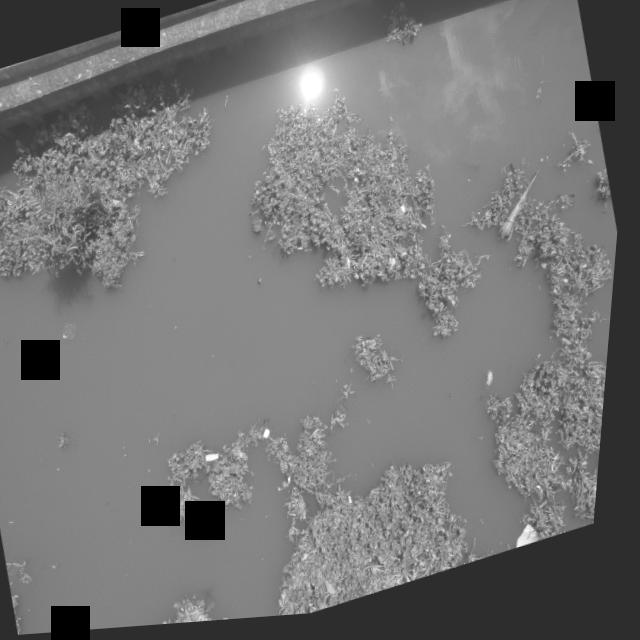plastic: (510, 517, 572, 560), (206, 448, 234, 474), (213, 517, 240, 538), (488, 372, 510, 395), (266, 425, 283, 445), (564, 342, 582, 360), (390, 260, 405, 280), (347, 260, 360, 277), (240, 453, 254, 467), (402, 209, 412, 224), (354, 498, 364, 512), (565, 284, 576, 295)
